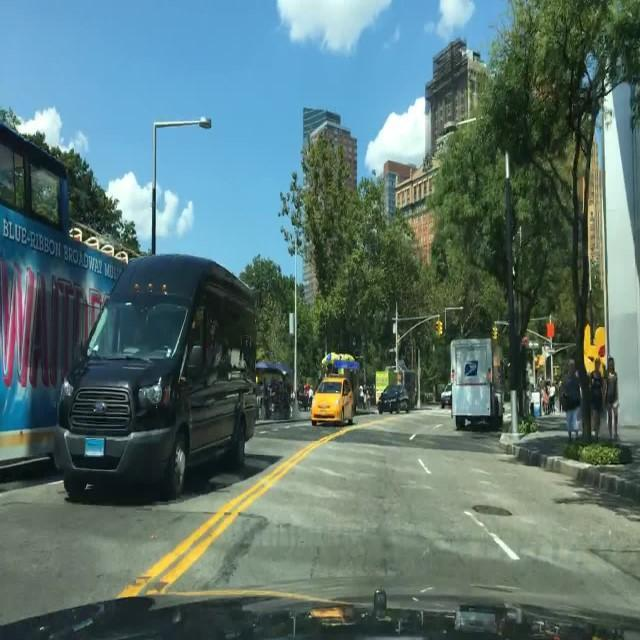normal: (19, 228, 285, 510), (306, 340, 424, 448)
